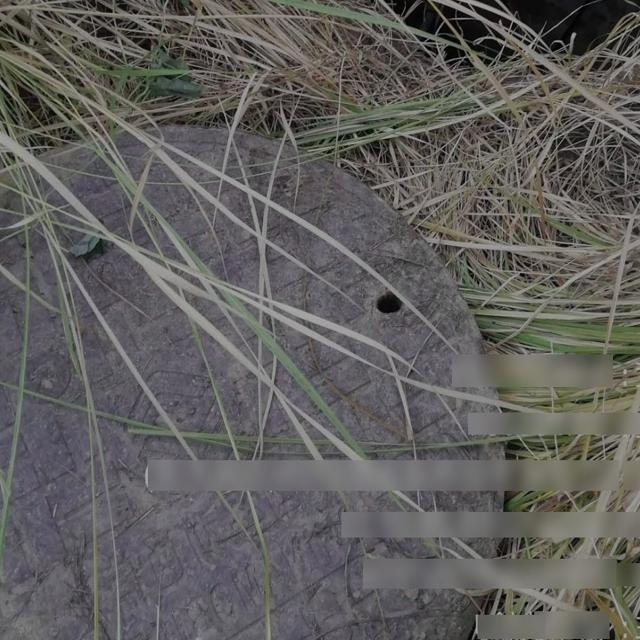uncovered: (272, 0, 640, 129)
